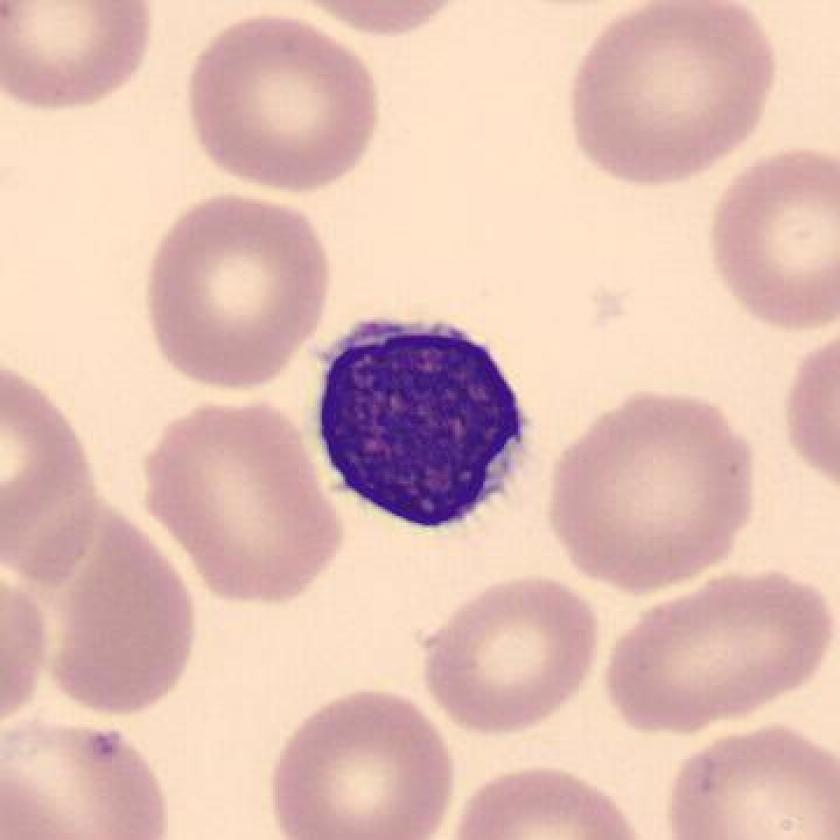lymphocyte: (295, 300, 547, 547)
